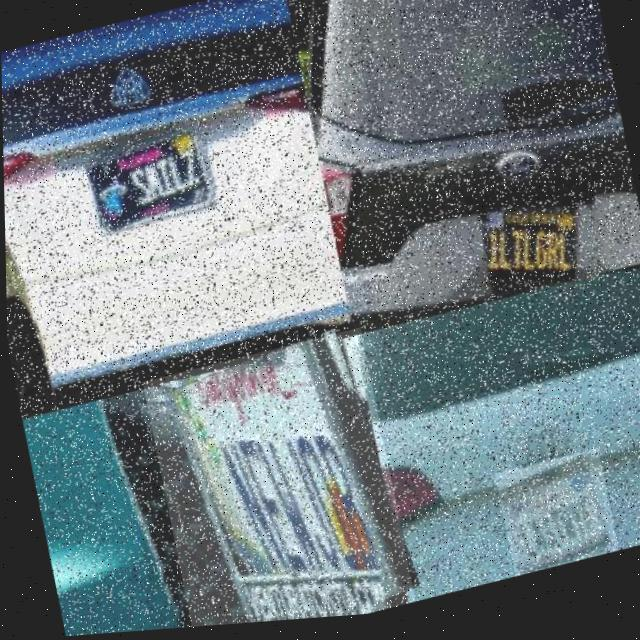LicensePlate: (139, 330, 412, 632), (472, 176, 607, 308), (492, 455, 616, 585), (84, 121, 217, 233)
